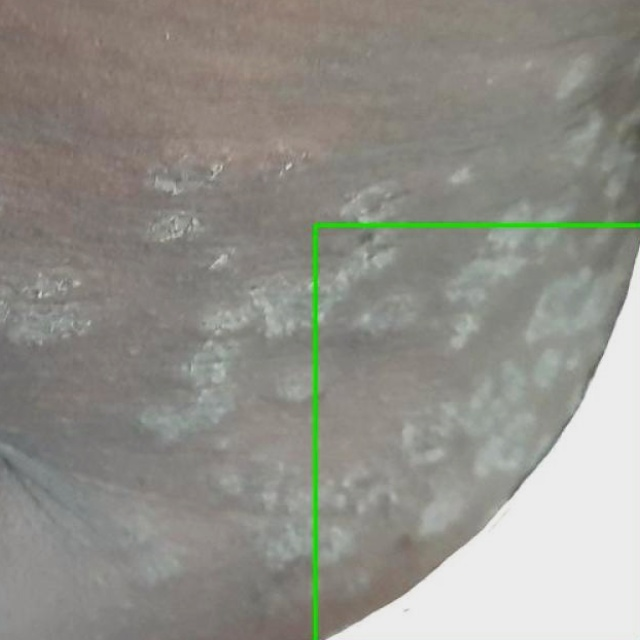Tinea Corporis: (315, 225, 639, 639)
